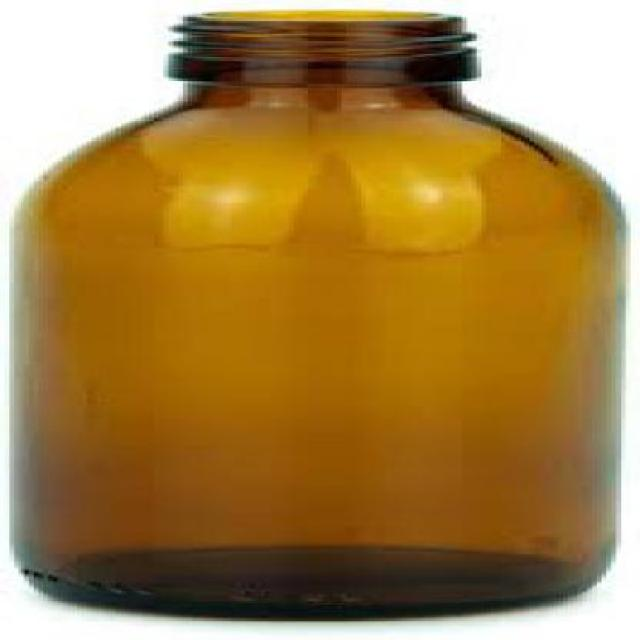kaca: (15, 8, 617, 620)
